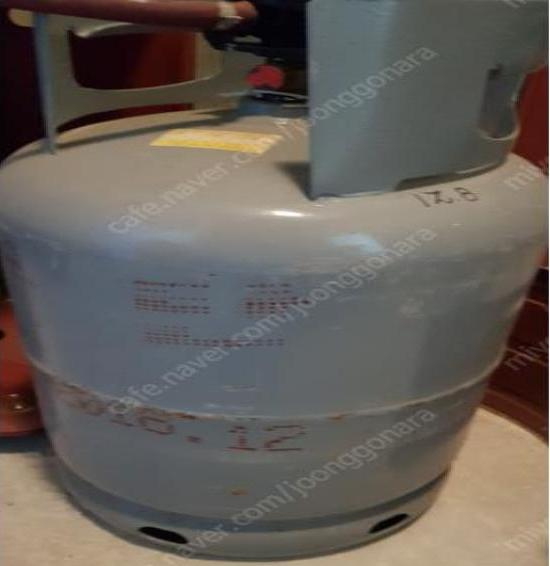cylinder: (1, 0, 550, 566)
